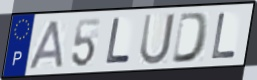5: (70, 16, 103, 68)
A: (27, 19, 65, 71)
D: (170, 10, 211, 65)
L: (209, 12, 238, 62), (104, 16, 132, 66)
U: (138, 11, 177, 66)
